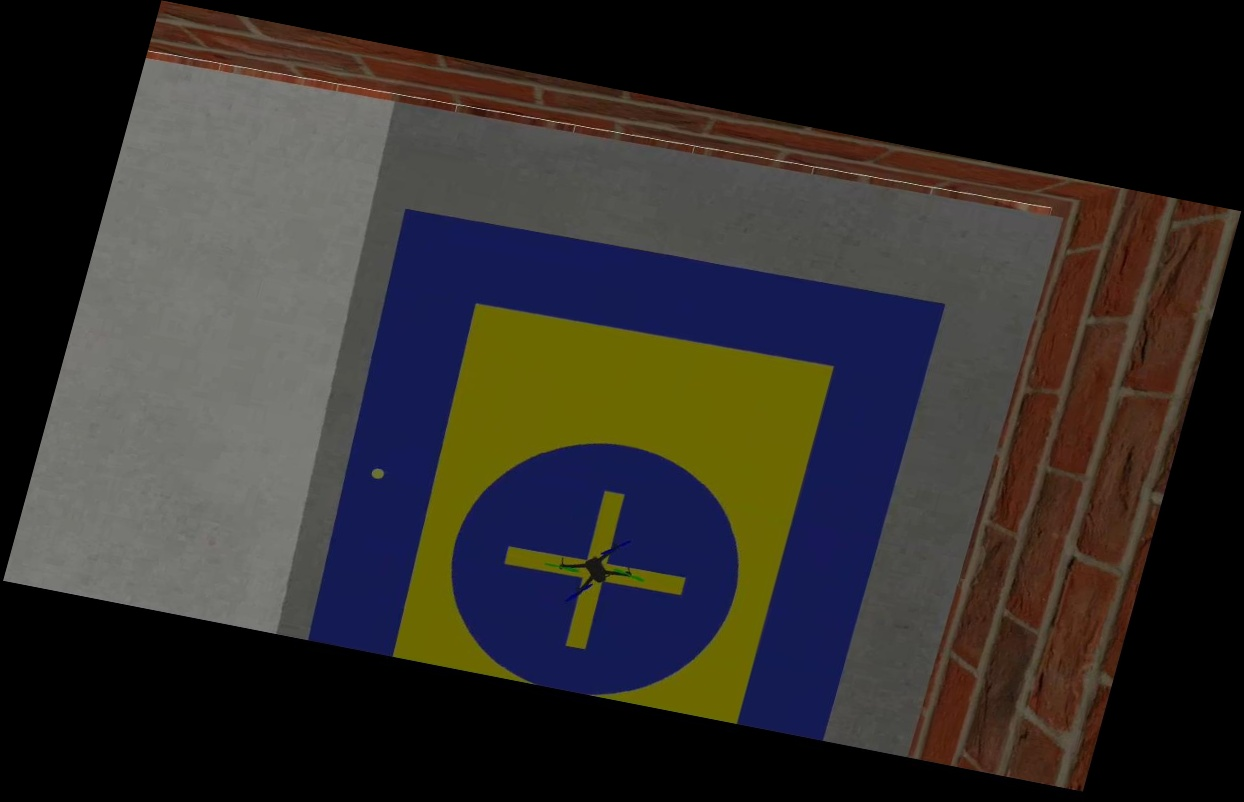large_base: (289, 201, 944, 744)
